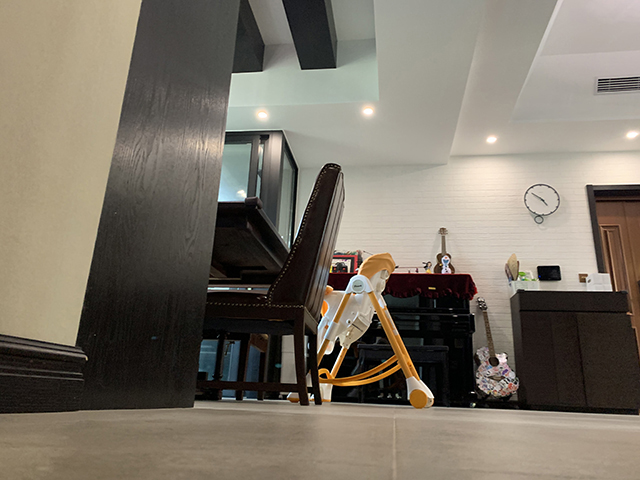cabinet: (509, 286, 640, 415)
stool: (200, 162, 345, 406), (355, 342, 453, 407)
